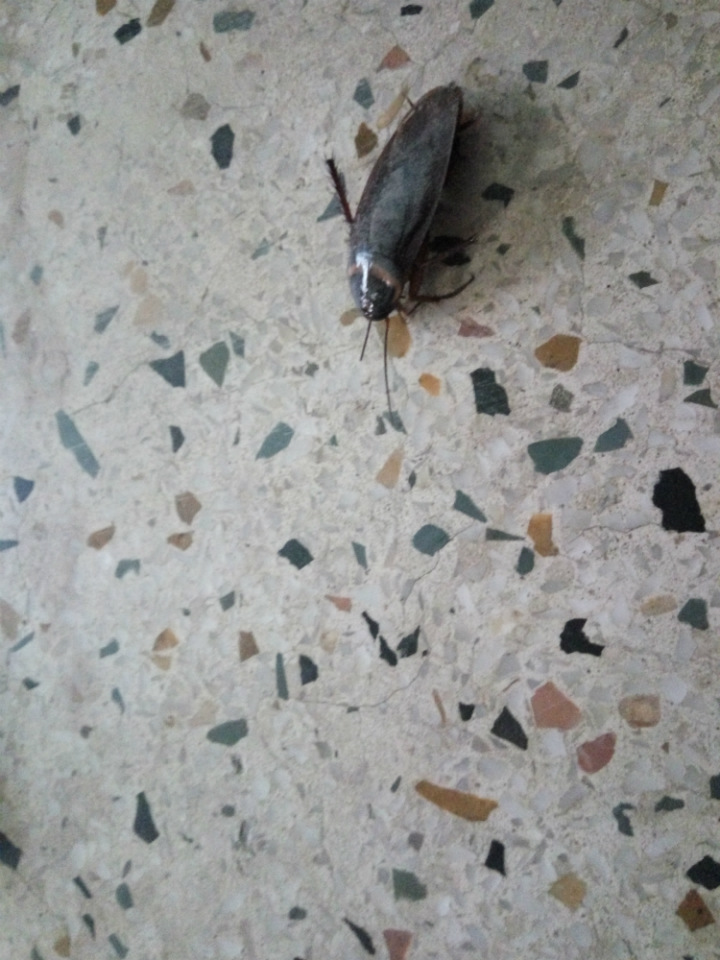cockroach: (271, 56, 547, 468)
